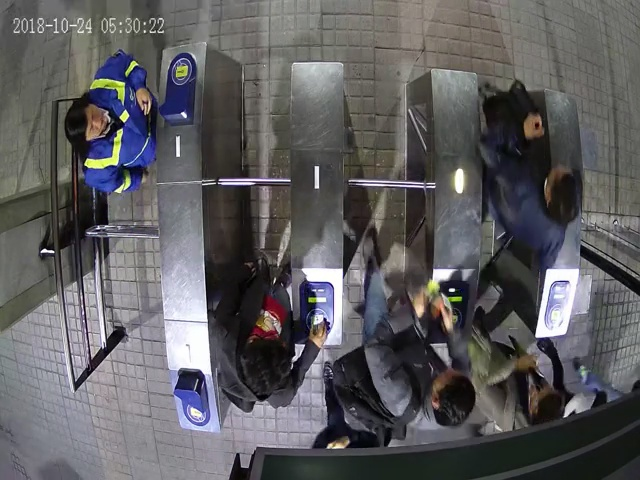Chaleco_azul: (65, 48, 159, 193)
